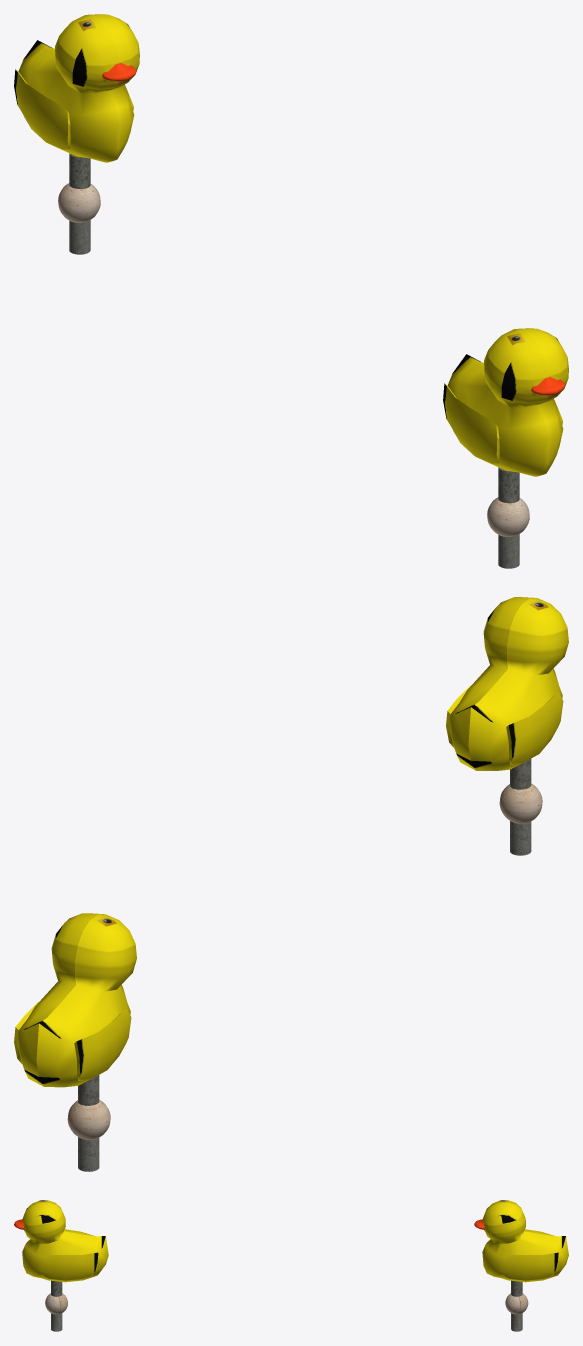
The model's file is Patos4.obj.
The picture shows the model from 3 angles, top to bottom: view 1: azimuth 30°, elevation 25°; view 2: azimuth 150°, elevation 25°; view 3: azimuth 270°, elevation 25°; orthographic projection. The views are drawn at different scales.
Parts seen in each view (by area): view 1: pCube78, pCube79, pCylinder10, pCylinder14, pSphere7, pSphere9; view 2: pCube79, pCube78, pSphere7, pSphere9, pCylinder10, pCylinder14; view 3: pCube78, pCube79, pCylinder14, pCylinder10, pSphere9, pSphere7.
Boxes of the visible parts, bbox=[...] form: pCube78: bbox=[443, 328, 568, 476]; pCube79: bbox=[14, 14, 139, 162]; pCylinder10: bbox=[498, 467, 519, 568]; pCylinder14: bbox=[69, 153, 90, 254]; pSphere7: bbox=[487, 497, 529, 536]; pSphere9: bbox=[58, 183, 100, 222]; pCube79: bbox=[14, 913, 136, 1087]; pCube78: bbox=[446, 597, 568, 770]; pSphere7: bbox=[499, 783, 542, 823]; pSphere9: bbox=[67, 1100, 110, 1139]; pCylinder10: bbox=[510, 759, 531, 855]; pCylinder14: bbox=[78, 1075, 99, 1171]; pCube78: bbox=[14, 1200, 108, 1282]; pCube79: bbox=[474, 1200, 568, 1282]; pCylinder14: bbox=[511, 1280, 522, 1331]; pCylinder10: bbox=[51, 1280, 62, 1331]; pSphere9: bbox=[505, 1293, 528, 1314]; pSphere7: bbox=[45, 1293, 67, 1314].
Bounding box in the file's own units: 0.8605 × 2.45 × 9.65.
